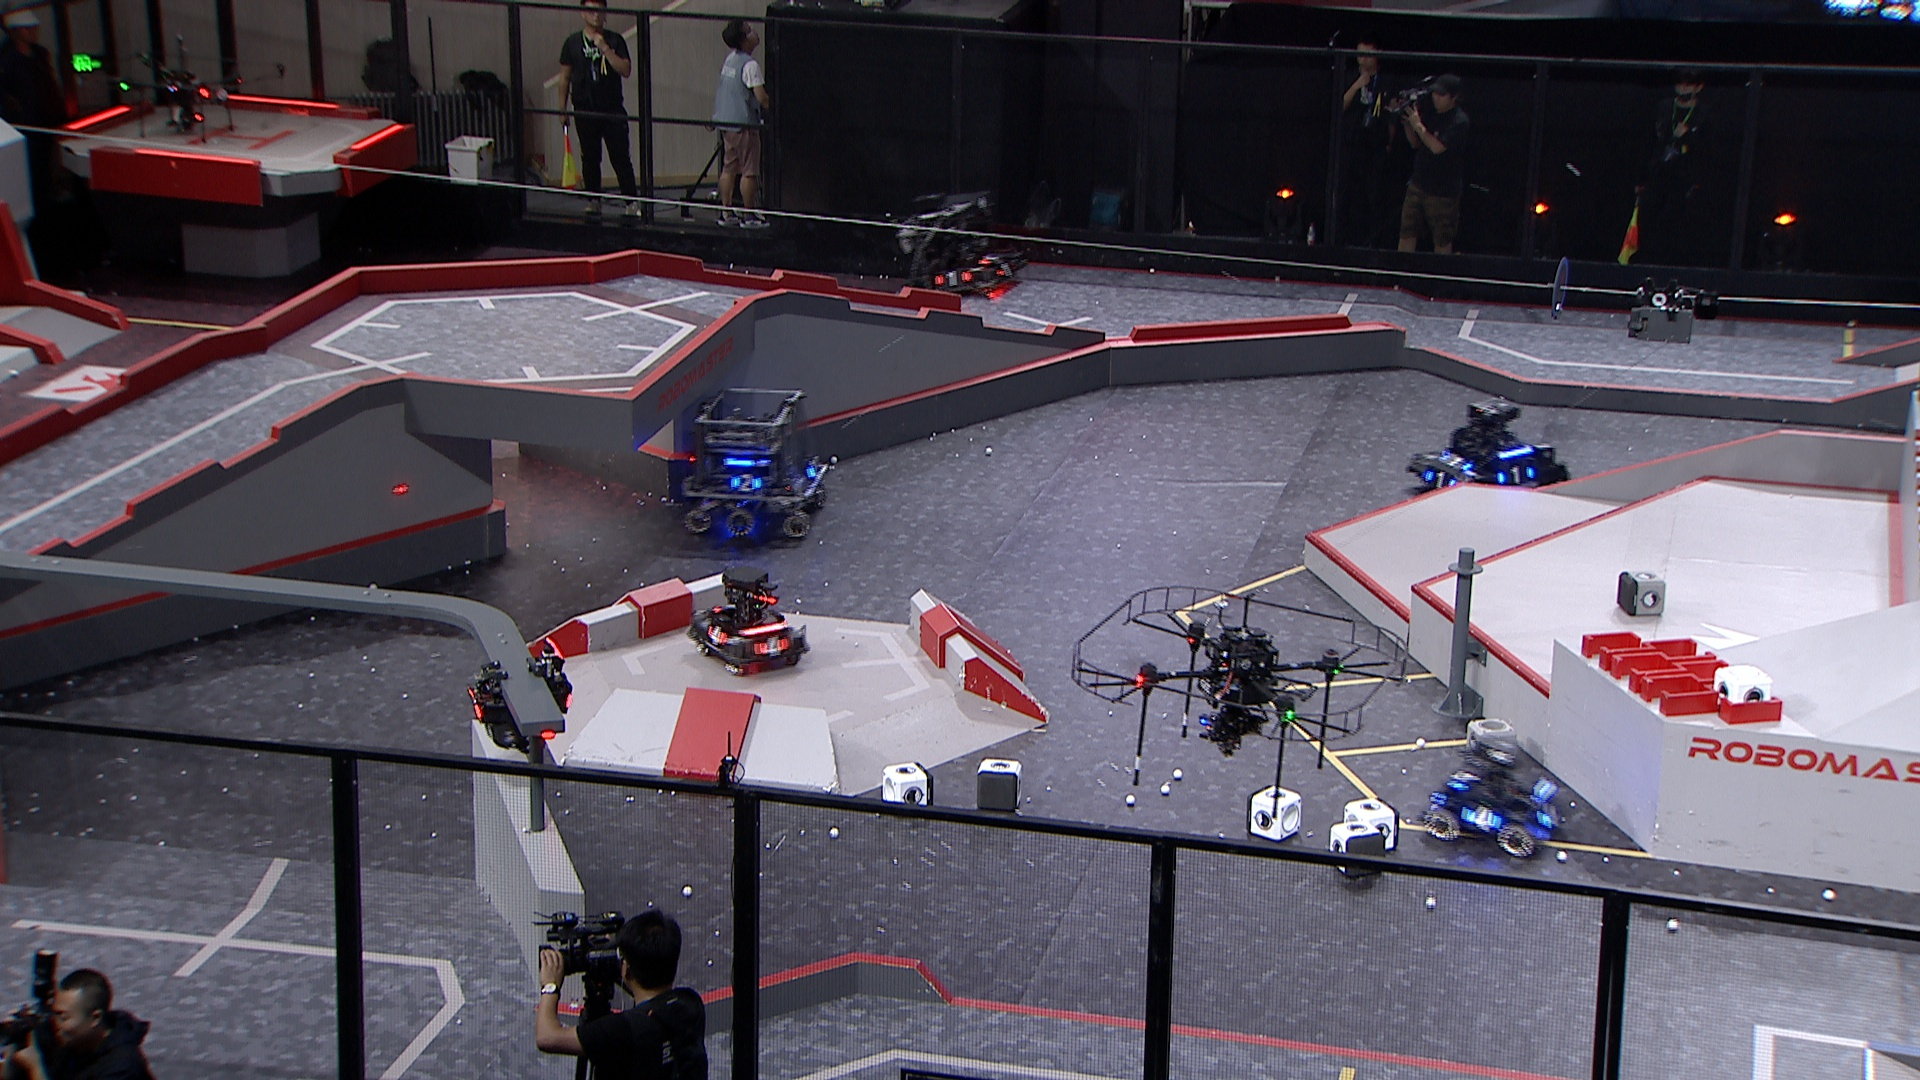armor: (1461, 803, 1505, 833), (463, 684, 489, 723), (754, 633, 793, 659), (1494, 465, 1536, 487), (1538, 799, 1563, 833), (1420, 467, 1456, 489), (1447, 767, 1477, 793), (1439, 451, 1474, 471), (728, 473, 761, 495), (704, 624, 731, 650), (934, 272, 973, 289), (804, 460, 822, 484), (996, 258, 1015, 278), (978, 252, 998, 268)
car: (675, 386, 832, 538), (1418, 716, 1571, 856), (1400, 394, 1572, 502), (889, 194, 1025, 295), (684, 568, 814, 674)
watcher: (462, 636, 571, 754)
